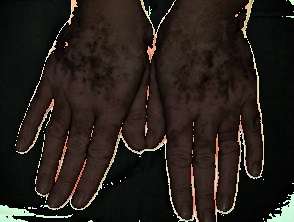vitiligo: (0, 0, 191, 222), (144, 0, 266, 222)
